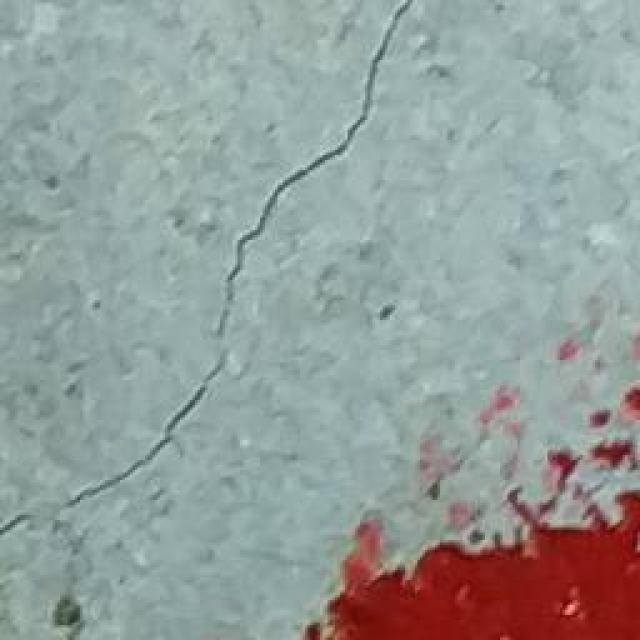Diagonal: (0, 0, 410, 533)
